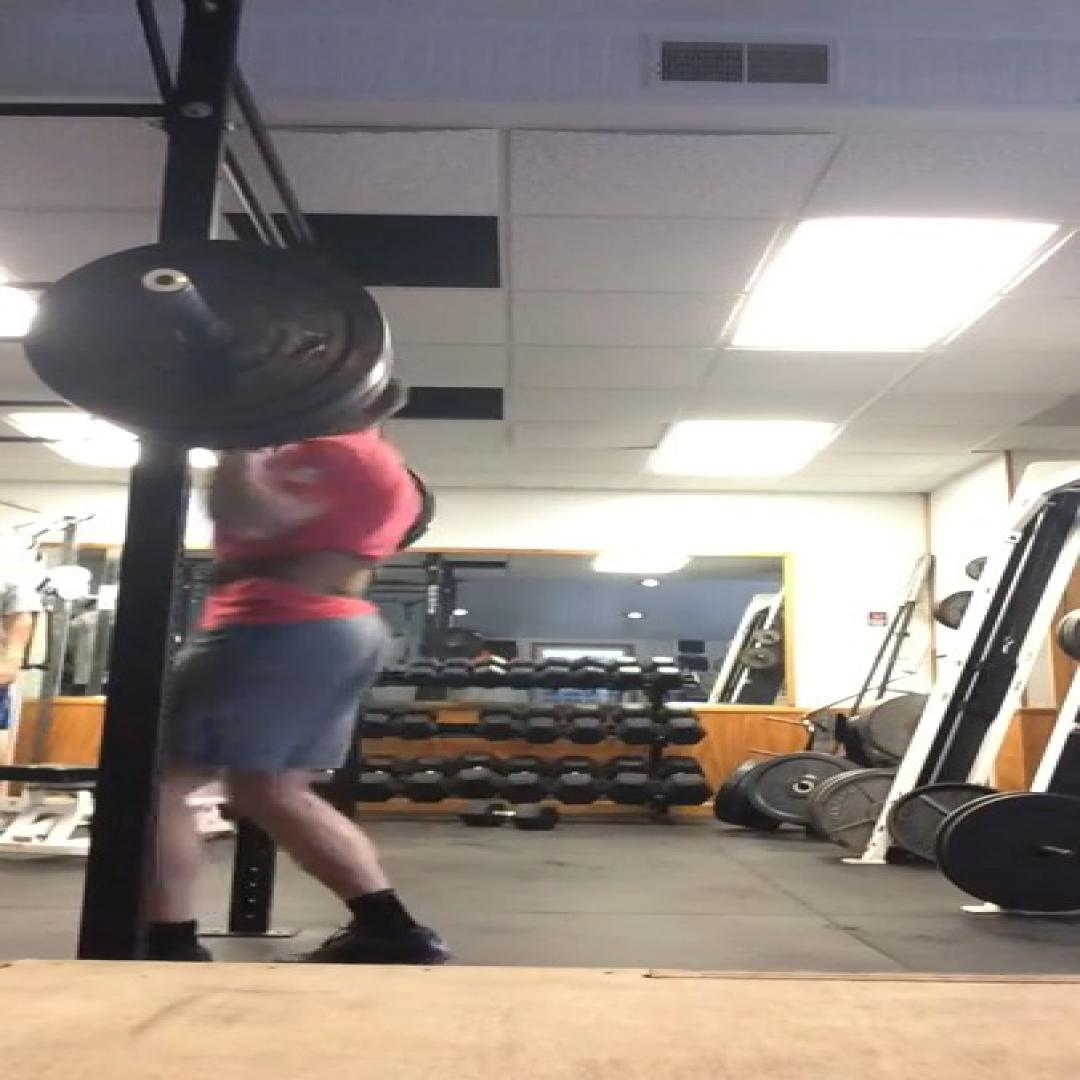Bar: (144, 267, 192, 293)
Barbell: (24, 242, 386, 426)
